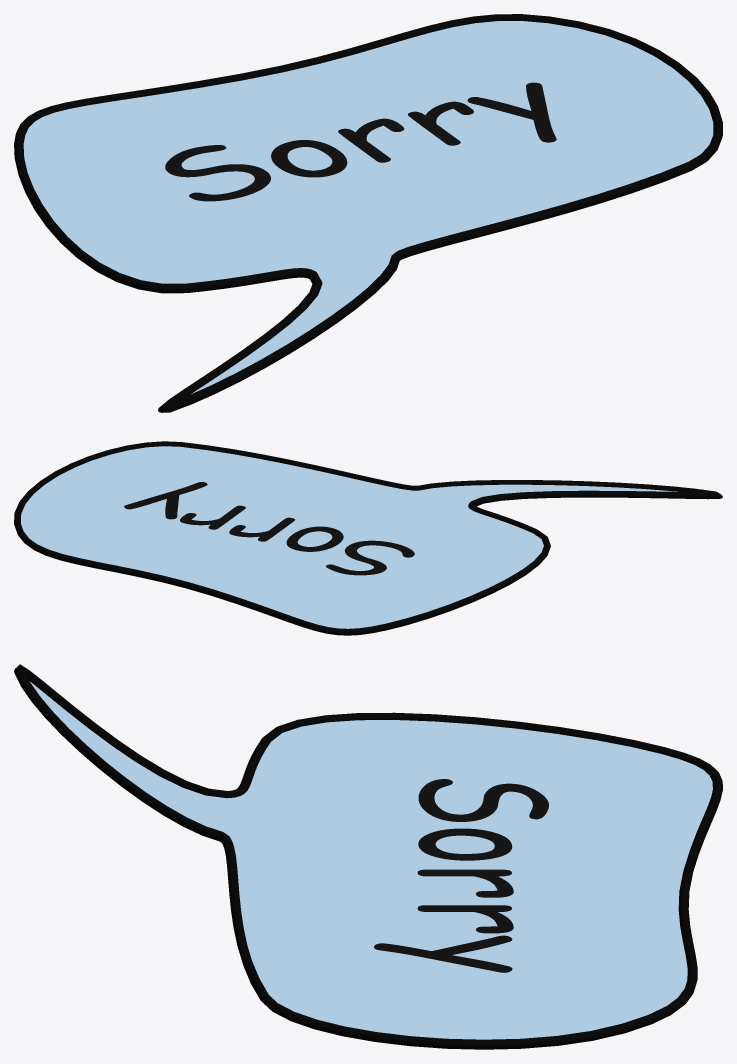
Rendered from Sorry.fbx.
3 renders of one model, top to bottom at view 1: azimuth 30°, elevation 25°; view 2: azimuth 150°, elevation 25°; view 3: azimuth 270°, elevation 25°, orthographic. The views are drawn at different scales.
Parts seen in each view (by area): view 1: BezierCircle.003, BezierCircle.002, Text.001; view 2: BezierCircle.003, BezierCircle.002, Text.001; view 3: BezierCircle.003, BezierCircle.002, Text.001.
Boxes of the visible parts, x1,y1,x2,y2 form: BezierCircle.003: (23, 21, 713, 393); BezierCircle.002: (14, 14, 722, 412); Text.001: (165, 82, 556, 201); BezierCircle.003: (21, 446, 677, 628); BezierCircle.002: (14, 441, 722, 635); Text.001: (124, 482, 414, 575); BezierCircle.003: (30, 681, 712, 1039); BezierCircle.002: (14, 664, 722, 1049); Text.001: (374, 779, 548, 972).
Bounding box in the file's own units: 179 × 2.58 × 141.
